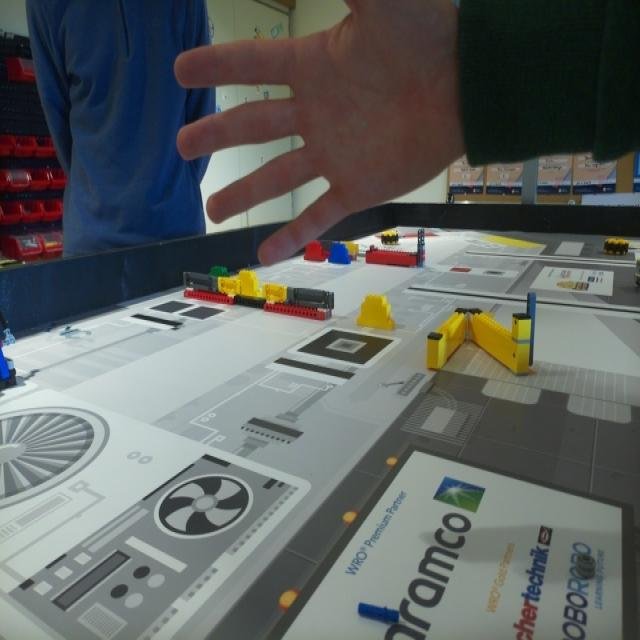blau: (328, 243, 354, 266)
gruen: (206, 262, 233, 282)
rot: (304, 241, 327, 266)
yellow: (357, 289, 397, 331), (234, 264, 263, 308)
